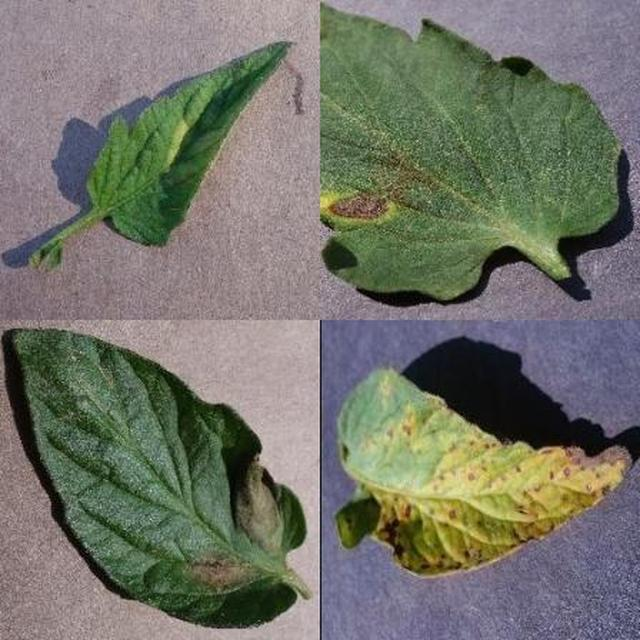Leaf Mold: (227, 205, 640, 640)
